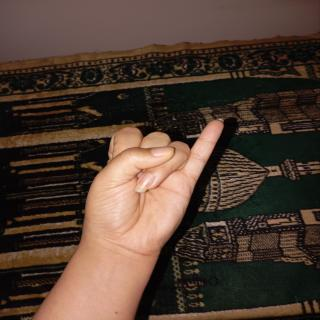MEEM: (76, 110, 254, 278)
